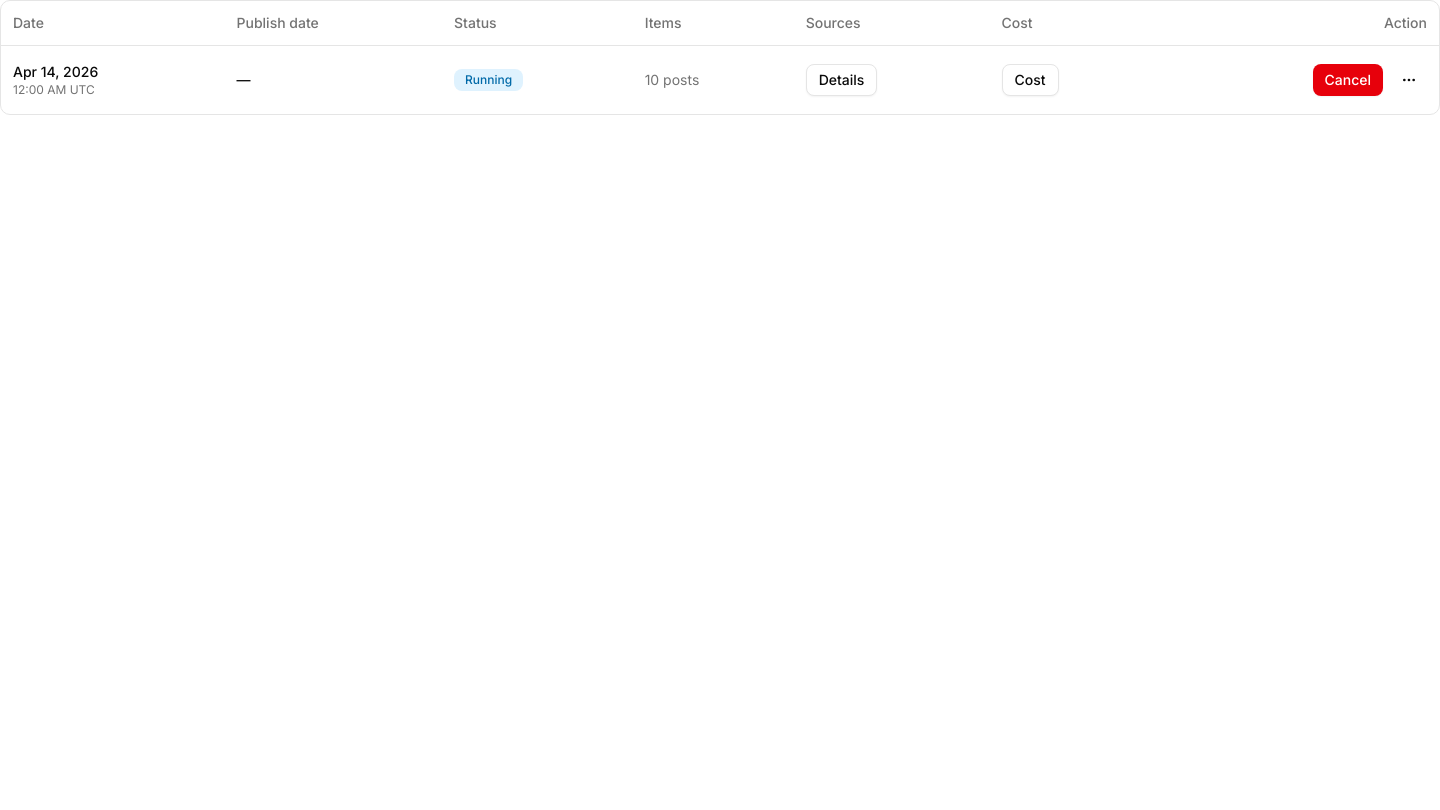
Test case: RunsTable cancel button (REQ-11, REQ-12) › REQ-12: clicking Cancel opens confirmation dialog with correct title and description
The image size is (1440, 810).
Click the button "Cancel" at (1348, 80), box [1312,64,1383,96]
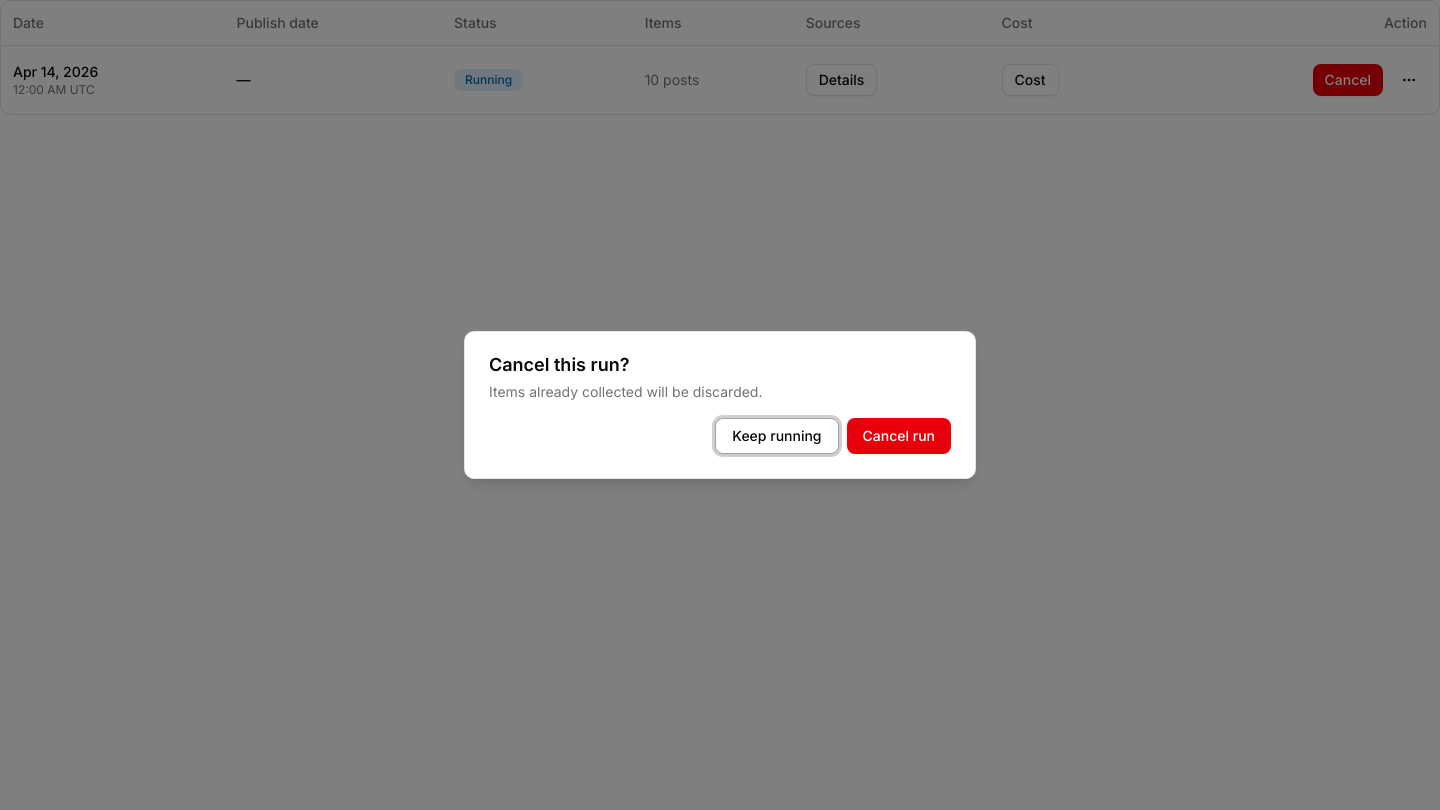
Expected: the heading "Cancel this run?" is shown, [489,354,630,375]
Expected: the text "Items already collected will be discarded." is shown, [489,383,762,400]
